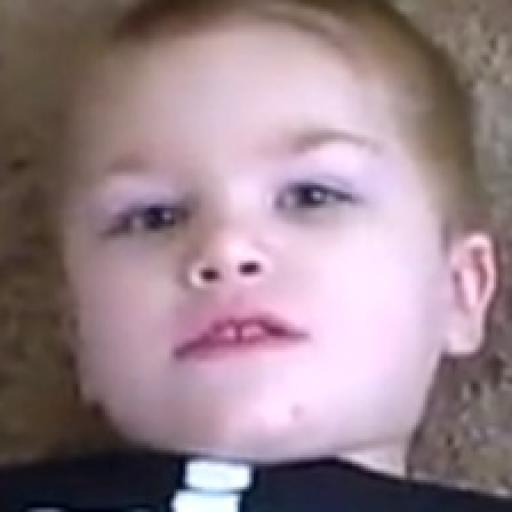Autism: (65, 39, 490, 471)
